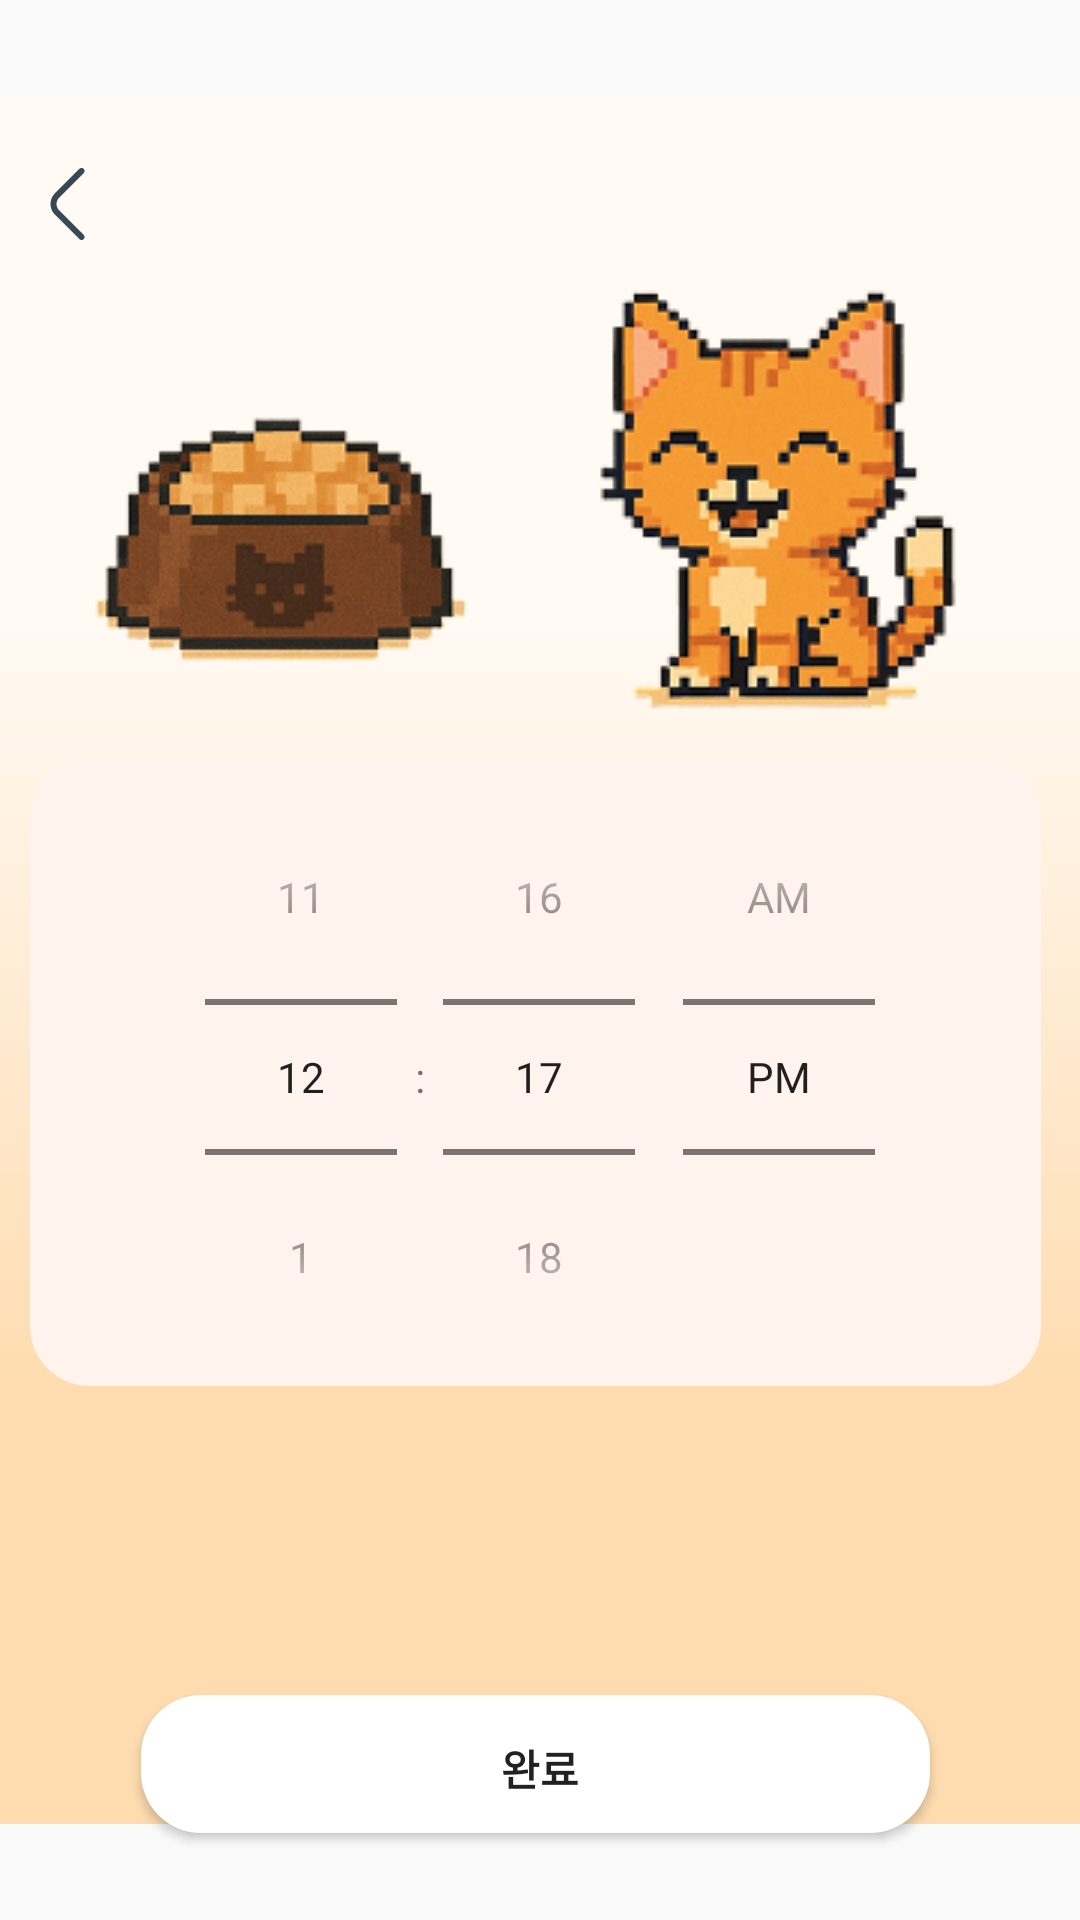

Icon click points for this 1080*1920 phone screenshot, format [x,y]:
back: [67,204]
